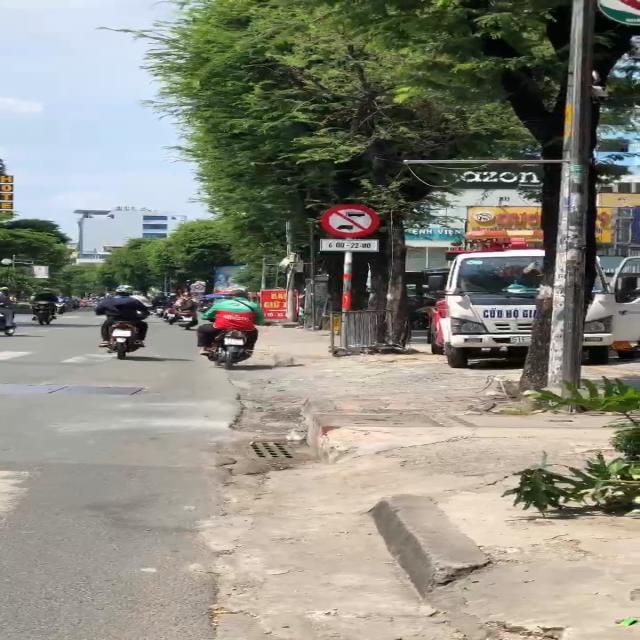Bien bao cam xe oto khach va xe oto tai: (317, 203, 383, 237)
